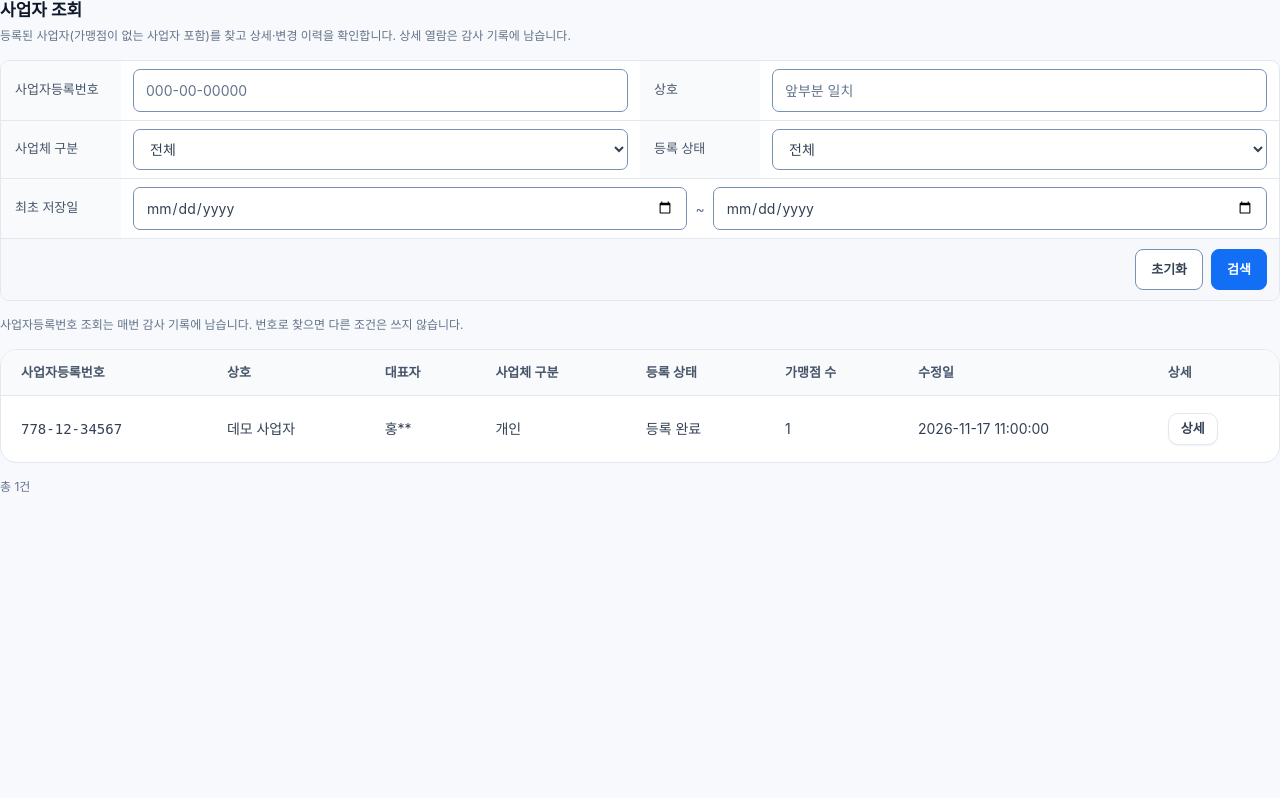
Test case: MERCHANT-FLOW-001 FLOW-1 — 사업자 상세 계약 진행 섹션(접수 건 표시) › R-6 이관 건: "계약 완료(이관) · 근거: 이관", 담당자·처리자 이관; 해지 전이 행 없음
Click the button with aria-label "데모 사업자 상세" at (1193, 429), box [1168,413,1218,445]
(page scrolled)
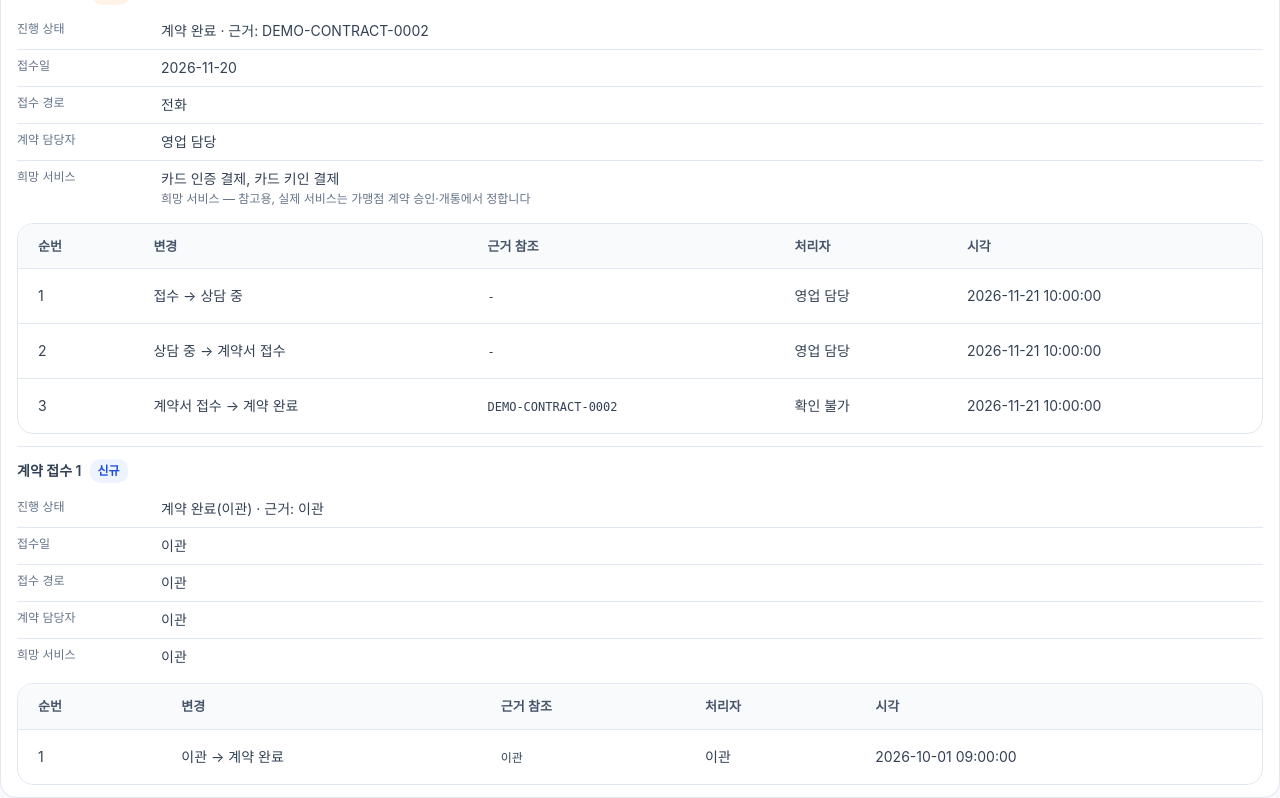
Now the text "계약 완료(이관) · 근거: 이관" is shown, box [161,500,324,517]
